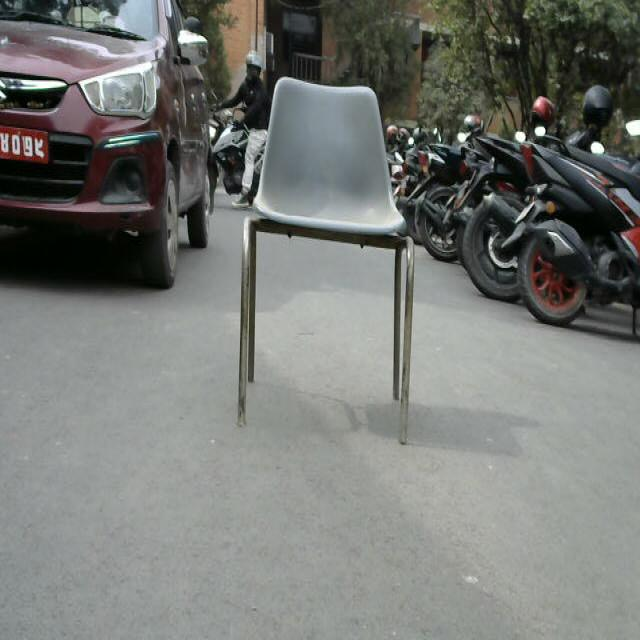Bike: (430, 122, 626, 325)
Car: (2, 1, 197, 317)
Road: (9, 292, 640, 636)
small-obstacles: (235, 71, 417, 458)
